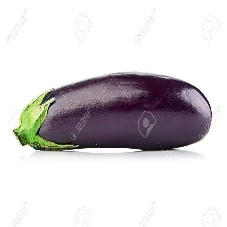eggplant: (20, 72, 211, 152)
